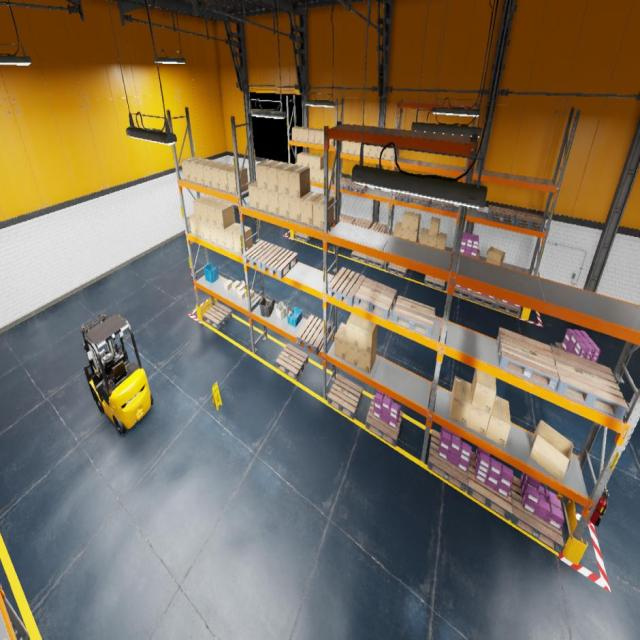box: (530, 420, 573, 482), (466, 384, 491, 436), (486, 396, 510, 446), (449, 376, 472, 426), (472, 369, 496, 415), (312, 194, 334, 229), (300, 191, 322, 226), (288, 166, 310, 198), (358, 319, 378, 354), (276, 164, 298, 195), (266, 161, 288, 192), (256, 159, 277, 190), (358, 339, 377, 373), (226, 166, 248, 195), (232, 226, 253, 254), (346, 313, 363, 347), (214, 202, 235, 229), (202, 160, 222, 187), (210, 163, 229, 189), (195, 160, 214, 186), (199, 198, 218, 224), (334, 323, 347, 360), (207, 200, 225, 226), (188, 158, 207, 182), (224, 222, 240, 250), (181, 157, 200, 180), (193, 196, 211, 220), (218, 164, 233, 191), (486, 247, 505, 266), (345, 342, 358, 367), (248, 181, 259, 210), (289, 195, 300, 222), (278, 194, 289, 218), (268, 190, 278, 215), (258, 188, 268, 212), (429, 217, 440, 237), (410, 212, 421, 232), (402, 210, 412, 230), (190, 213, 198, 236), (217, 227, 226, 247), (436, 233, 446, 250), (419, 228, 429, 245), (202, 222, 211, 240), (210, 224, 218, 244), (196, 218, 204, 238), (308, 153, 318, 169), (410, 227, 420, 242), (314, 155, 324, 170), (308, 128, 318, 143), (315, 128, 324, 144), (298, 126, 307, 142), (291, 127, 301, 141), (321, 168, 330, 183), (428, 234, 438, 247), (303, 153, 312, 167), (303, 128, 312, 142), (394, 222, 402, 237), (386, 148, 396, 160), (236, 280, 245, 293), (298, 152, 306, 165), (378, 146, 386, 159), (370, 145, 378, 158), (348, 141, 356, 154), (401, 228, 409, 240), (328, 169, 334, 185), (364, 144, 371, 157), (224, 280, 233, 290), (355, 142, 361, 156), (246, 289, 254, 299), (238, 289, 246, 299), (232, 280, 240, 290), (342, 141, 348, 154), (315, 169, 320, 182), (310, 168, 314, 181), (330, 140, 335, 146), (321, 130, 323, 145)
forklift: (80, 313, 153, 435)
pallets: (552, 346, 628, 419), (510, 476, 564, 553), (497, 327, 559, 391), (466, 451, 512, 521), (428, 429, 468, 492), (366, 396, 402, 446), (393, 296, 435, 338), (355, 278, 397, 319), (328, 374, 362, 419), (328, 268, 366, 306), (296, 314, 330, 354), (276, 343, 308, 381), (262, 246, 298, 278), (243, 240, 279, 270), (203, 302, 232, 330), (515, 210, 545, 231), (488, 205, 516, 224), (495, 298, 521, 317), (471, 291, 496, 308), (424, 274, 445, 290), (454, 284, 473, 300), (432, 199, 454, 212), (409, 195, 432, 207), (388, 263, 407, 277), (352, 217, 372, 229), (366, 256, 385, 268), (349, 182, 368, 194), (392, 191, 410, 203), (335, 178, 353, 190), (352, 250, 368, 263), (460, 250, 480, 260), (370, 222, 388, 233), (295, 232, 312, 242), (339, 214, 355, 223), (554, 342, 564, 350)
